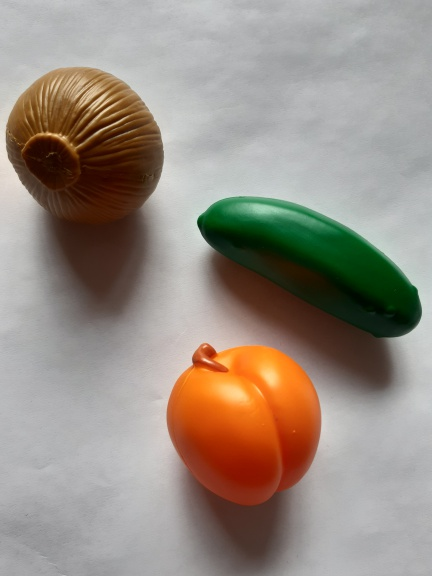apricot: (156, 327, 330, 513)
cucumber: (189, 187, 432, 348)
onion: (2, 60, 174, 231)
